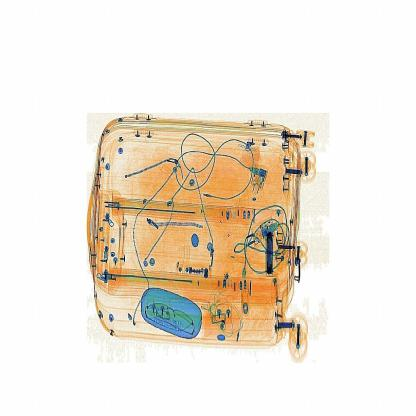scissors: (259, 219, 283, 288)
